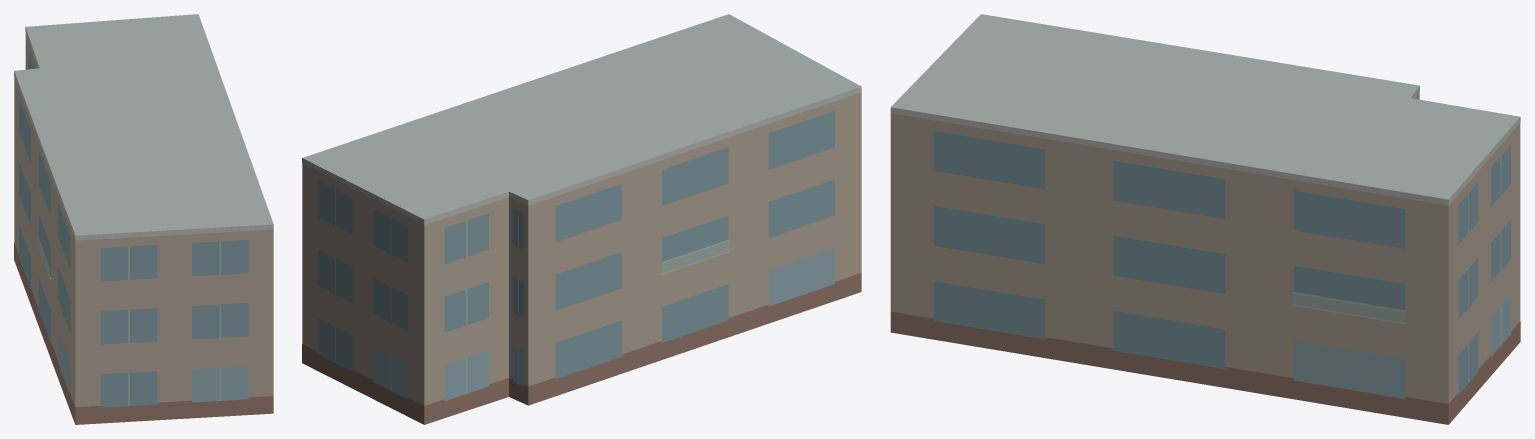
The model's file is survey-upis-32935724.glb.
3 views of the same model, side by side, from view 1: azimuth 30°, elevation 25°; view 2: azimuth 150°, elevation 25°; view 3: azimuth 270°, elevation 25° (orthographic). The views are drawn at different scales.
Parts seen in each view (by area): view 1: survey-upis-32935724.tmp; view 2: survey-upis-32935724.tmp; view 3: survey-upis-32935724.tmp.
Part boxes in pixels (x1,y1,x2,y2): survey-upis-32935724.tmp: (14,14,273,424); survey-upis-32935724.tmp: (302,14,861,424); survey-upis-32935724.tmp: (890,14,1520,424).
Bounding box in the file's own units: 16.18 × 9.15 × 23.19.
